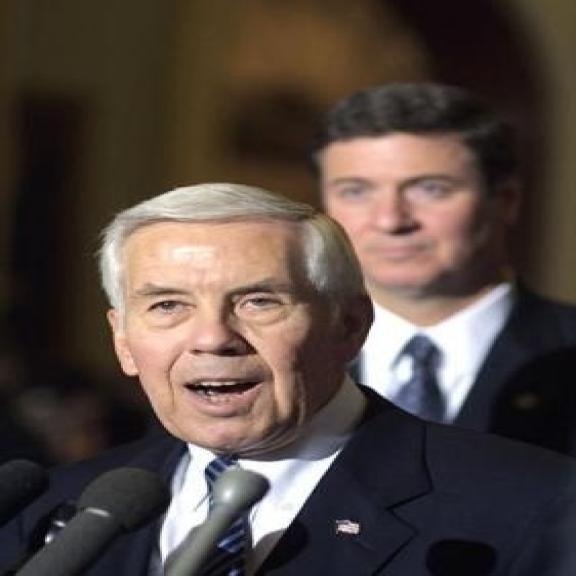face: (93, 219, 376, 459), (304, 116, 530, 298)
